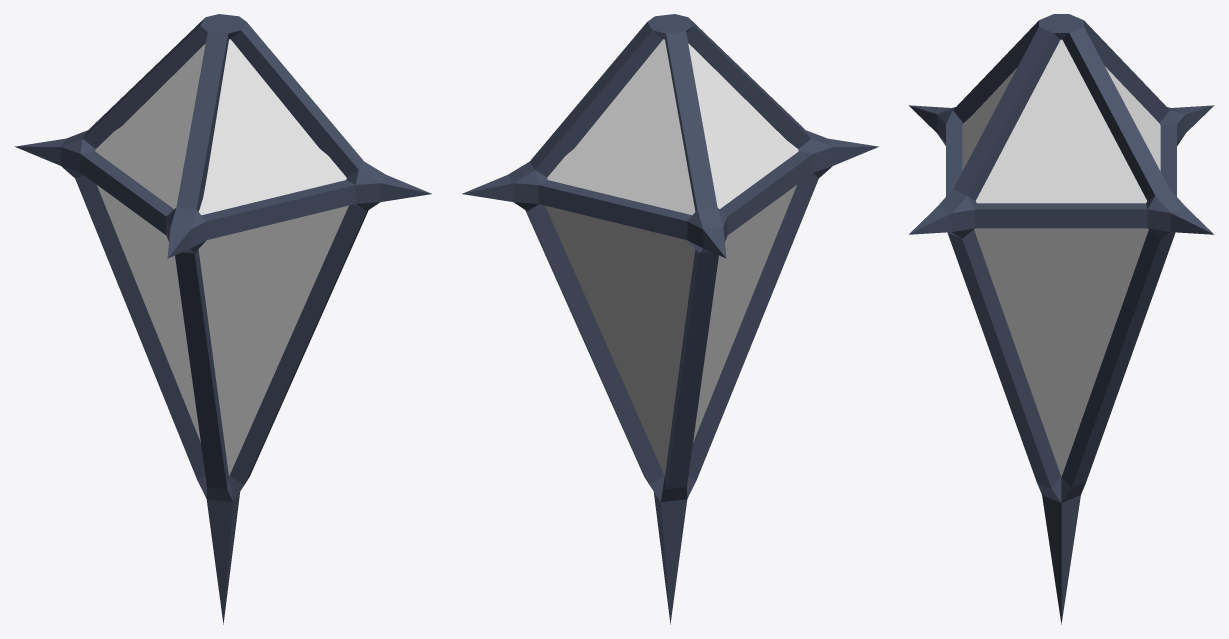
File: Lamp.fbx
The picture shows the model from 3 angles, left to right: view 1: azimuth 30°, elevation 25°; view 2: azimuth 150°, elevation 25°; view 3: azimuth 270°, elevation 25°; orthographic projection.
Visible parts, largest first — view 1: Lamp_export; view 2: Lamp_export; view 3: Lamp_export.
Part boxes in pixels (bbox=[...]): Lamp_export: bbox=[15, 14, 431, 624]; Lamp_export: bbox=[462, 14, 878, 624]; Lamp_export: bbox=[908, 14, 1214, 624].
Bounding box in the file's own units: 36.53 × 79.16 × 36.53.
